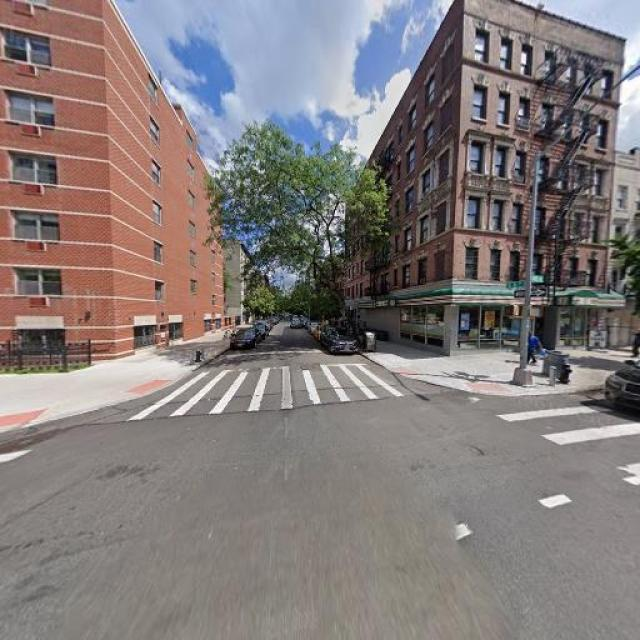Building: (345, 1, 615, 355), (1, 1, 223, 374)
